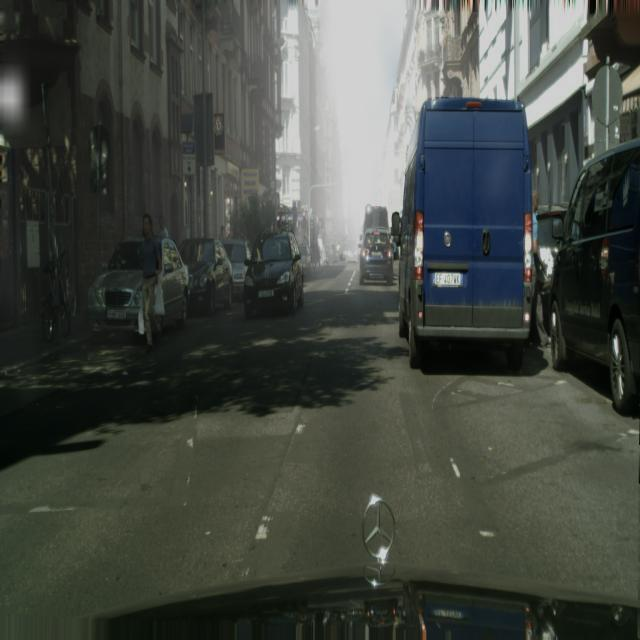car: (40, 241, 73, 341)
motorcycle: (397, 96, 534, 374)
person: (527, 191, 548, 348), (140, 214, 162, 351)
truck: (548, 138, 640, 414), (87, 235, 190, 337), (530, 202, 568, 343), (243, 232, 304, 318), (179, 237, 234, 316), (359, 228, 394, 285), (222, 238, 252, 296)
